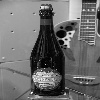beer: (31, 4, 73, 99)
